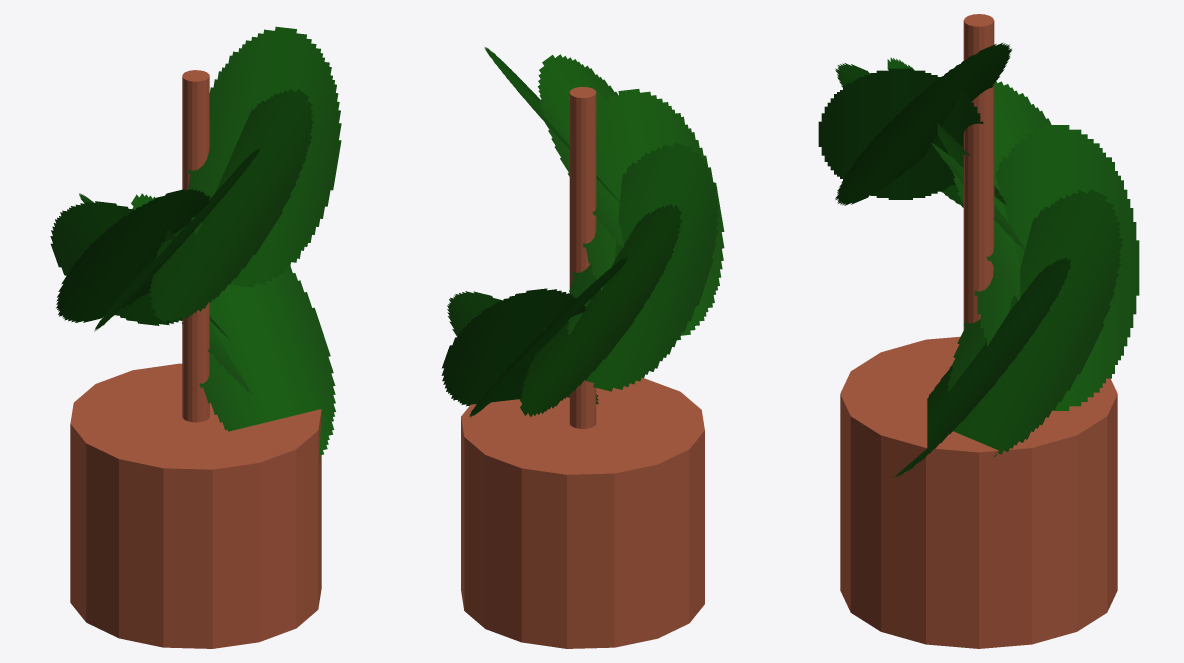
Rendered from Plant.glb.
3 renders of one model, left to right at view 1: azimuth 30°, elevation 25°; view 2: azimuth 150°, elevation 25°; view 3: azimuth 270°, elevation 25°, orthographic. The views are drawn at different scales.
Visible parts, largest first — view 1: Pot, Leaf.007, Leaf.006, Leaf, Leaf.004, Stem, Leaf.003, Leaf.005, Leaf.001; view 2: Pot, Leaf.004, Leaf.003, Leaf.005, Leaf.001, Stem, Leaf.006, Leaf.002, Leaf, Leaf.007; view 3: Pot, Leaf.001, Leaf.002, Leaf.006, Leaf.007, Stem, Leaf, Leaf.003, Leaf.005, Leaf.004.
Boxes of the visible parts, x1,y1,x2,y2 form: Pot: (70, 363, 321, 648); Leaf.007: (188, 26, 341, 287); Leaf.006: (149, 89, 313, 322); Leaf: (181, 266, 335, 459); Leaf.004: (56, 188, 210, 322); Stem: (182, 70, 209, 422); Leaf.003: (50, 201, 182, 325); Leaf.005: (94, 148, 260, 331); Leaf.001: (131, 193, 251, 393); Pot: (461, 378, 704, 648); Leaf.004: (566, 143, 718, 391); Leaf.003: (519, 204, 681, 416); Leaf.005: (582, 89, 724, 340); Leaf.001: (441, 288, 586, 406); Stem: (569, 87, 596, 428); Leaf.006: (537, 54, 623, 248); Leaf.002: (469, 257, 627, 417); Leaf: (447, 291, 598, 404); Leaf.007: (484, 47, 620, 202); Pot: (840, 336, 1117, 648); Leaf.001: (947, 189, 1122, 456); Leaf.002: (974, 125, 1139, 410); Leaf.006: (818, 68, 983, 199); Leaf.007: (835, 42, 1011, 205); Stem: (963, 14, 994, 329); Leaf: (893, 257, 1070, 477); Leaf.003: (952, 81, 1051, 301); Leaf.005: (835, 63, 1006, 207); Leaf.004: (887, 57, 1026, 251).
Bounding box in the file's own units: 0.8804 × 1.52 × 0.8804.
Materials: 2 (1 with a texture image).
